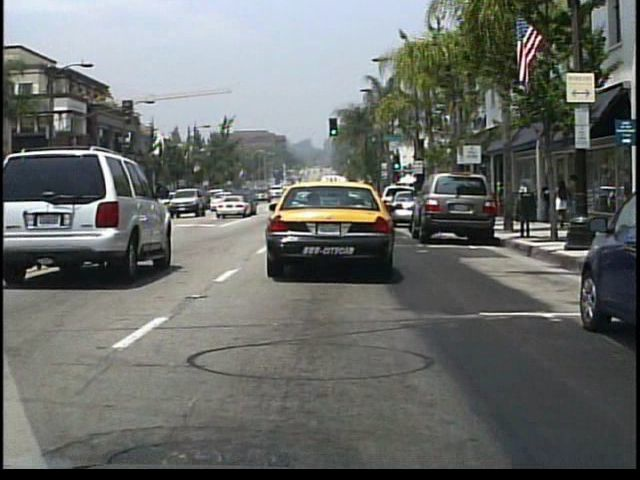person: (568, 172, 588, 229), (539, 176, 556, 226), (556, 174, 570, 230)
